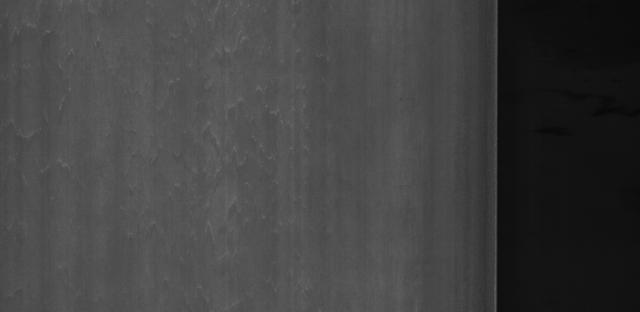silk_spot: (114, 8, 294, 269)
